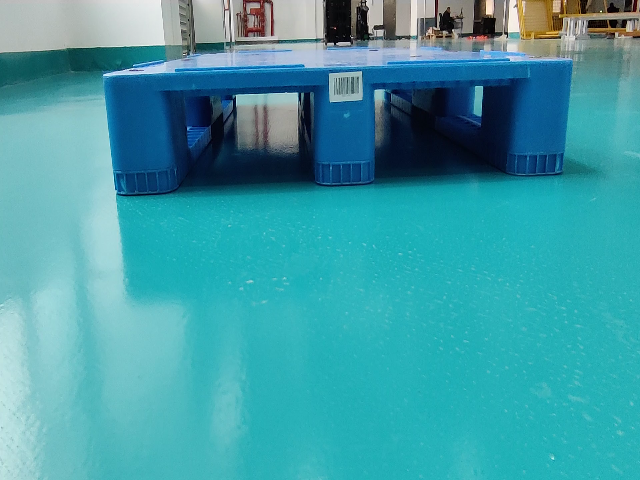block: (100, 74, 177, 194), (312, 67, 377, 183), (506, 62, 573, 174)
front: (101, 59, 575, 194)
hole pallet: (369, 81, 525, 184), (167, 86, 322, 184)
